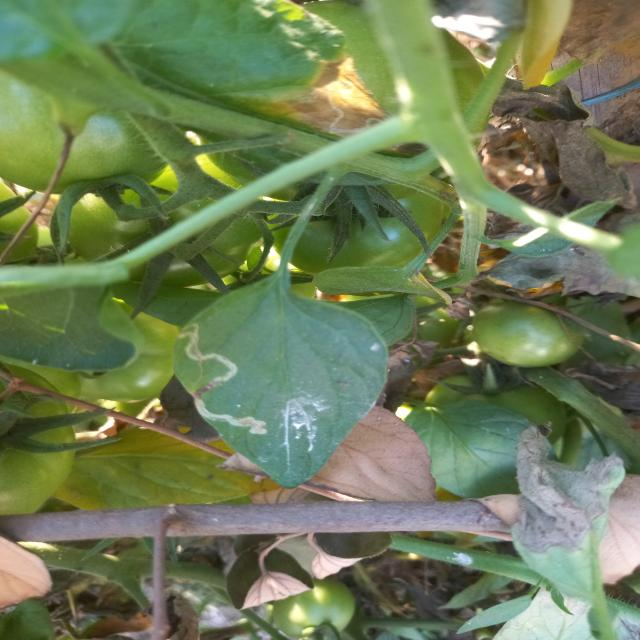Tuta absoluta: (152, 321, 240, 409), (203, 404, 269, 435)
